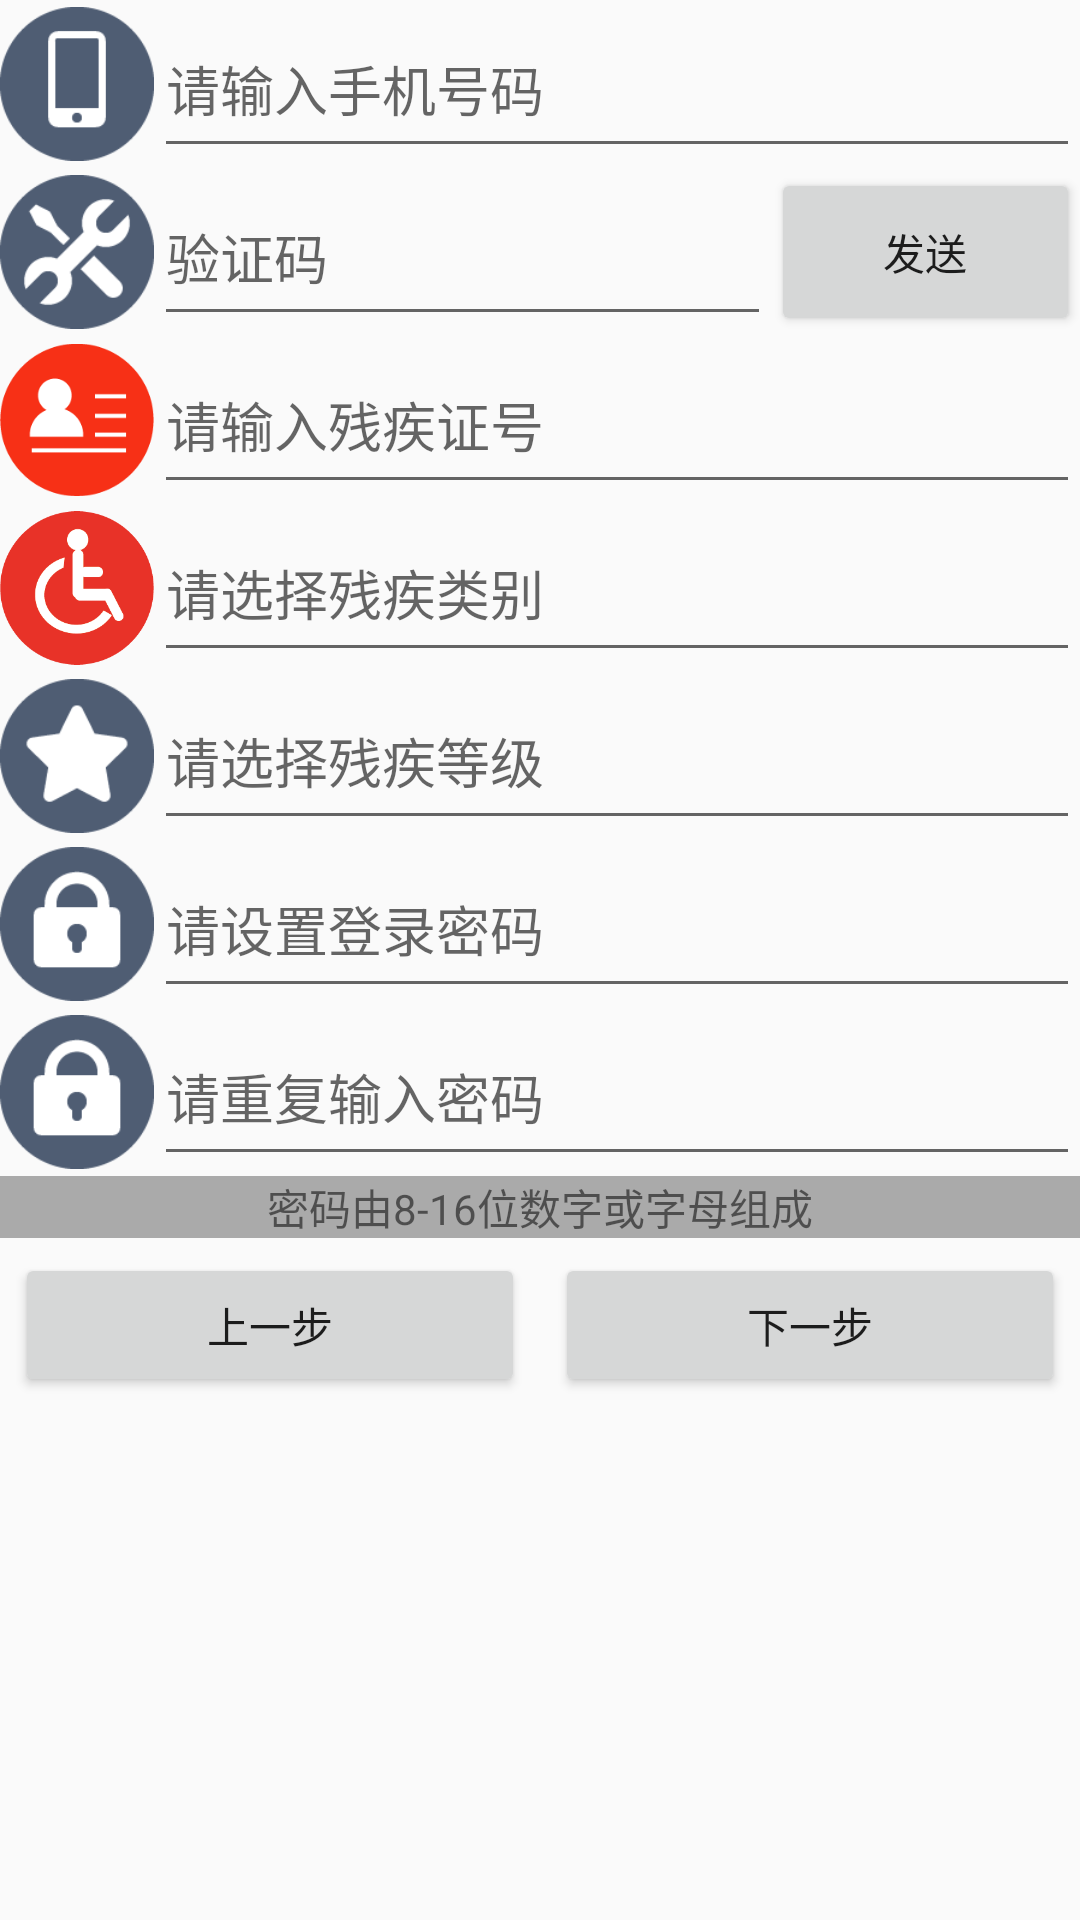

Screen size 1080*1920. Icon name, then its box in pixels as bbox=(x1, y1, x2, y2):
disability card: bbox=(0, 344, 154, 496)
disability category: bbox=(0, 511, 154, 665)
password: bbox=(0, 847, 154, 1001), bbox=(0, 1015, 154, 1169)
phone: bbox=(0, 7, 154, 161)
